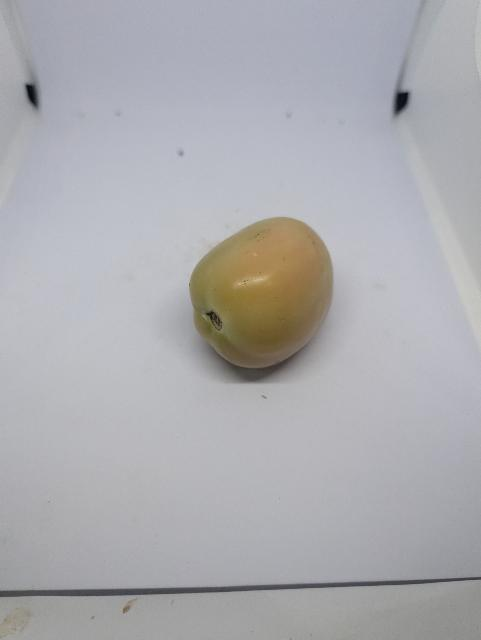breaker: (183, 218, 340, 372)
